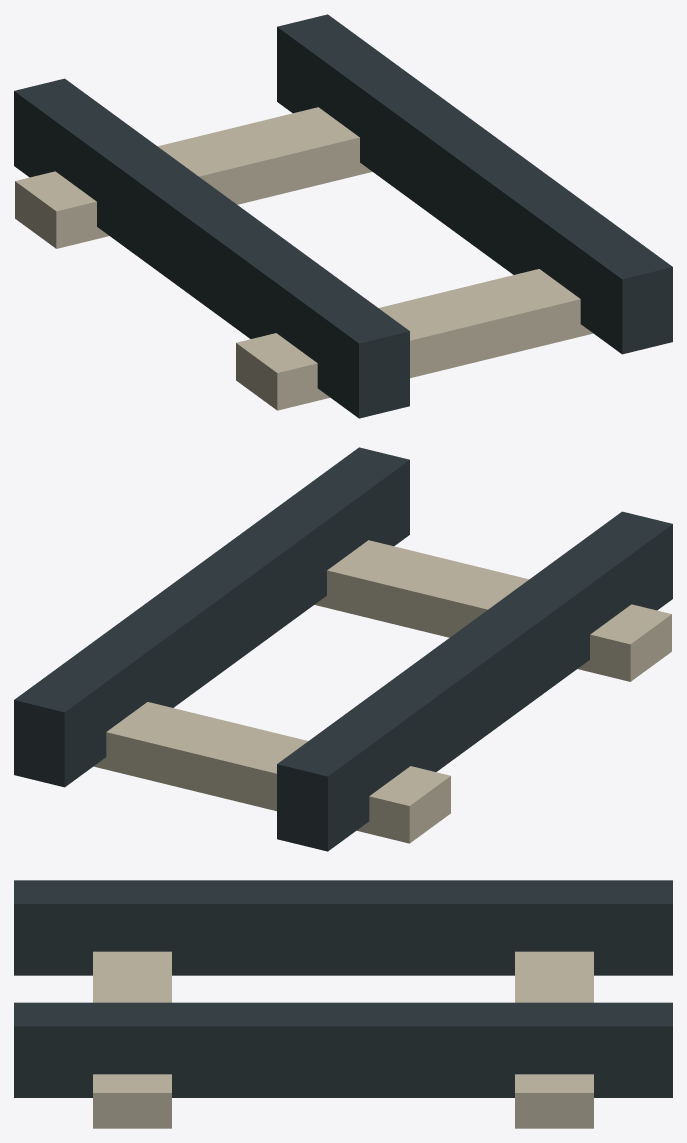
The model's file is rail-straight-lod0.a0579c35c14e.glb.
The picture shows the model from 3 angles, top to bottom: view 1: azimuth 30°, elevation 25°; view 2: azimuth 150°, elevation 25°; view 3: azimuth 270°, elevation 25°; orthographic projection. The views are drawn at different scales.
Visible parts, largest first — view 1: body; view 2: body; view 3: body.
Boxes of the visible parts, bbox=[...] form: body: bbox=[14, 14, 672, 418]; body: bbox=[14, 447, 672, 851]; body: bbox=[14, 880, 672, 1128].
Size of the model in its own units: 0.66 by 0.14 by 1.
